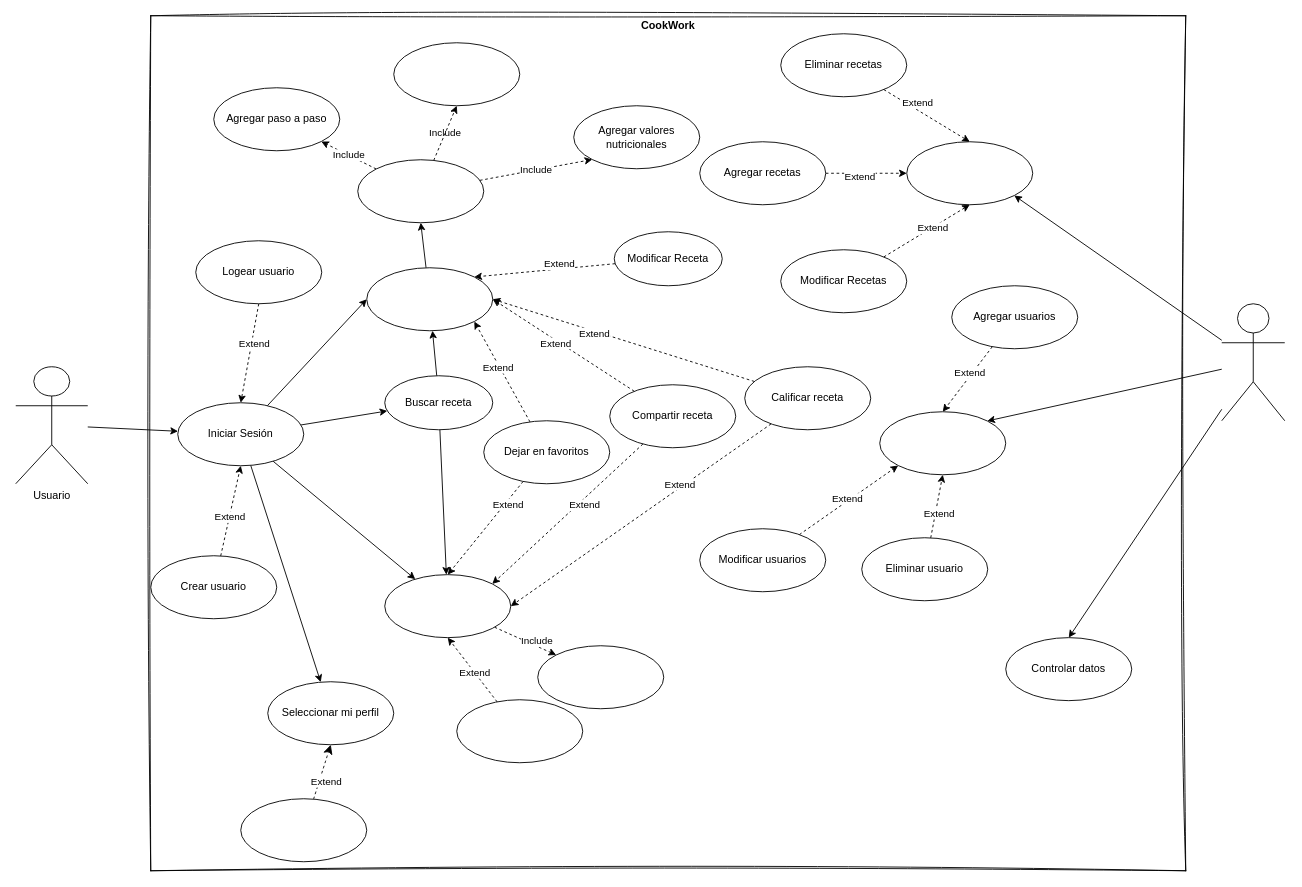
Some shapes in this 1302 by 887 pixel diagram are drawn without their labels. The centre of each missing label's shape, as x and y in pixels:
Administrador: point (1253, 362)
Agregar Ingredientes: point (456, 74)
Calcular valores nutricionales: point (600, 677)
Cambiar cantidades: point (519, 731)
Crear nueva receta: point (420, 191)
Modificar mis datos: point (303, 830)
Revisar recetas: point (969, 173)
Revisar usuarios: point (942, 443)
Ver mis recetas: point (429, 299)
Ver recetas precargadas: point (447, 606)
